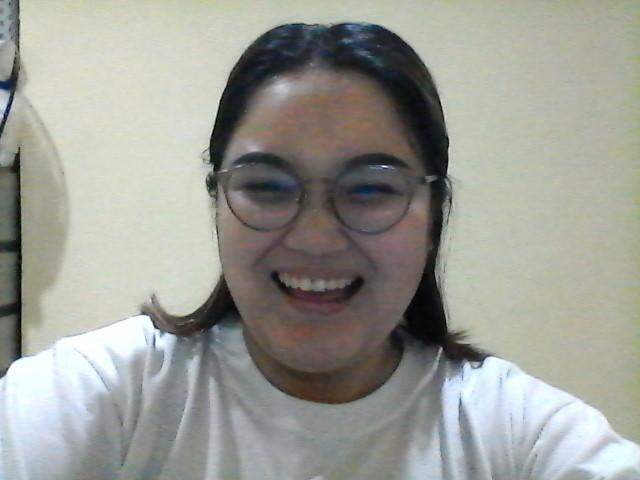senang: (207, 74, 434, 364)
